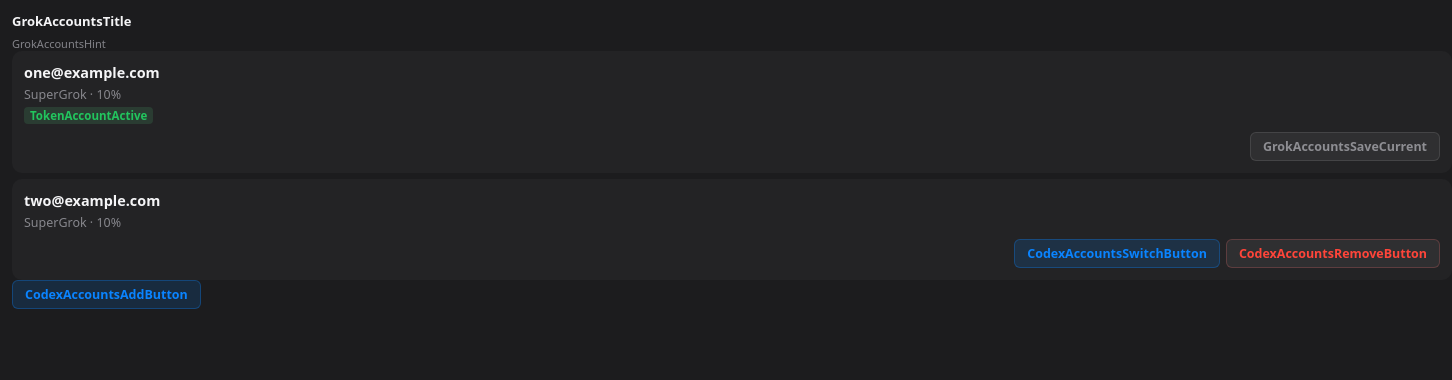
Scenario: GrokAccountsSection › keeps mutations disabled during browser login and supports cancel
The image size is (1452, 380).
Expected: the text "one@example.com" is shown, [24,63,160,82]
Click the button "CodexAccountsAddButton" at [106, 295], box [12,280,201,309]
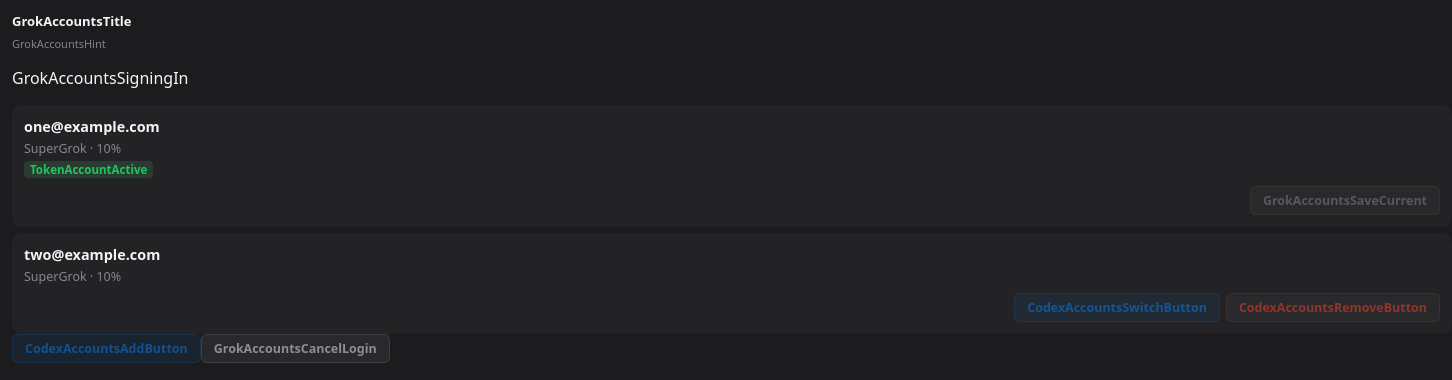
Result: the text "GrokAccountsSigningIn" is shown at [12,67,188,89]
Click the button "GrokAccountsCancelLogin" at [295, 349], box [201,334,390,363]
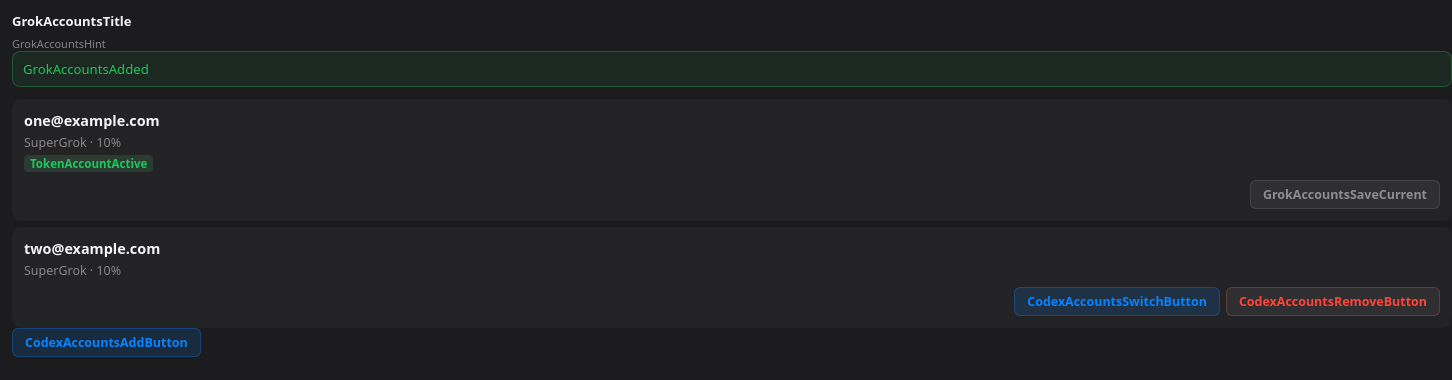
Result: the button "GrokAccountsCancelLogin" is gone
Result: the button "CodexAccountsAddButton" is enabled at [12,328,201,357]
